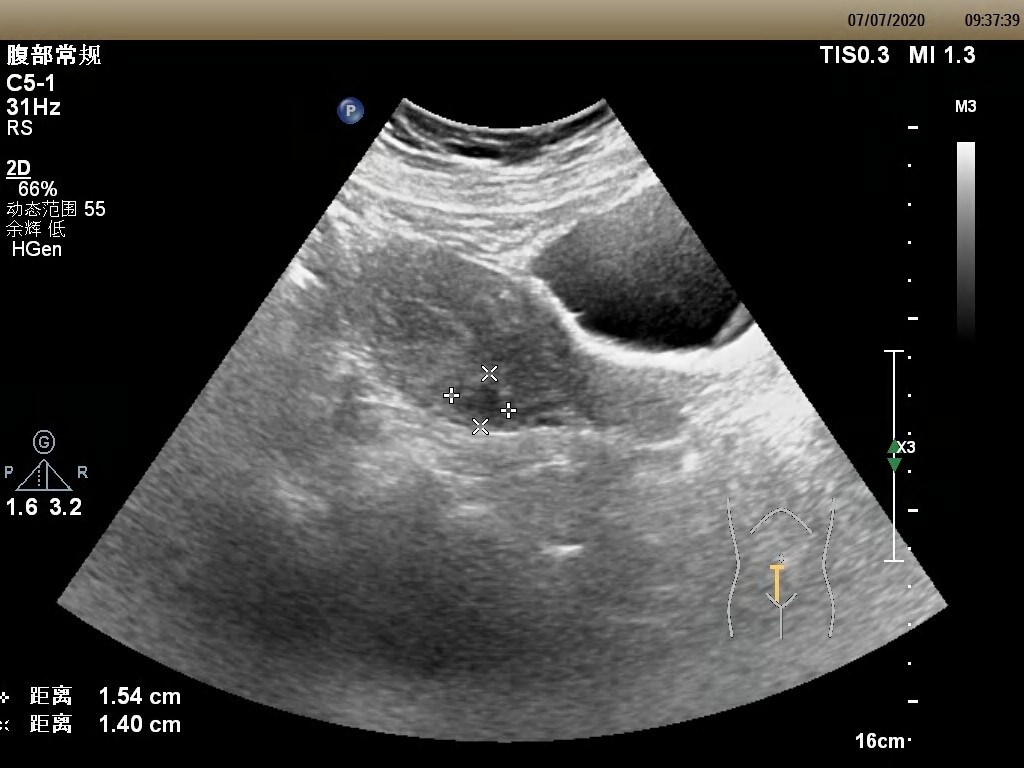肌瘤: (450, 373, 511, 426)
